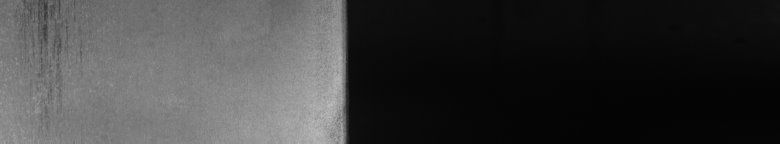ka: (16, 4, 87, 114)
